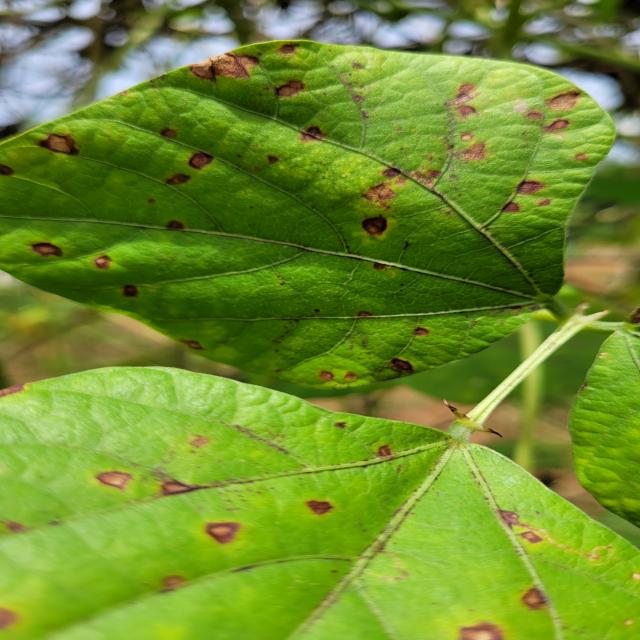Dolicos bean_cercospora leaf spot: (0, 37, 612, 393), (0, 360, 640, 640)
